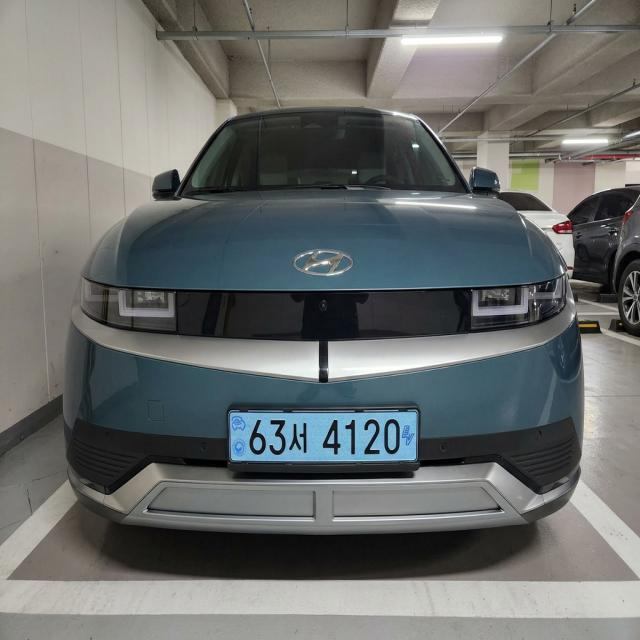car: (212, 372, 441, 496)
carev: (394, 411, 419, 462), (229, 411, 248, 466)
